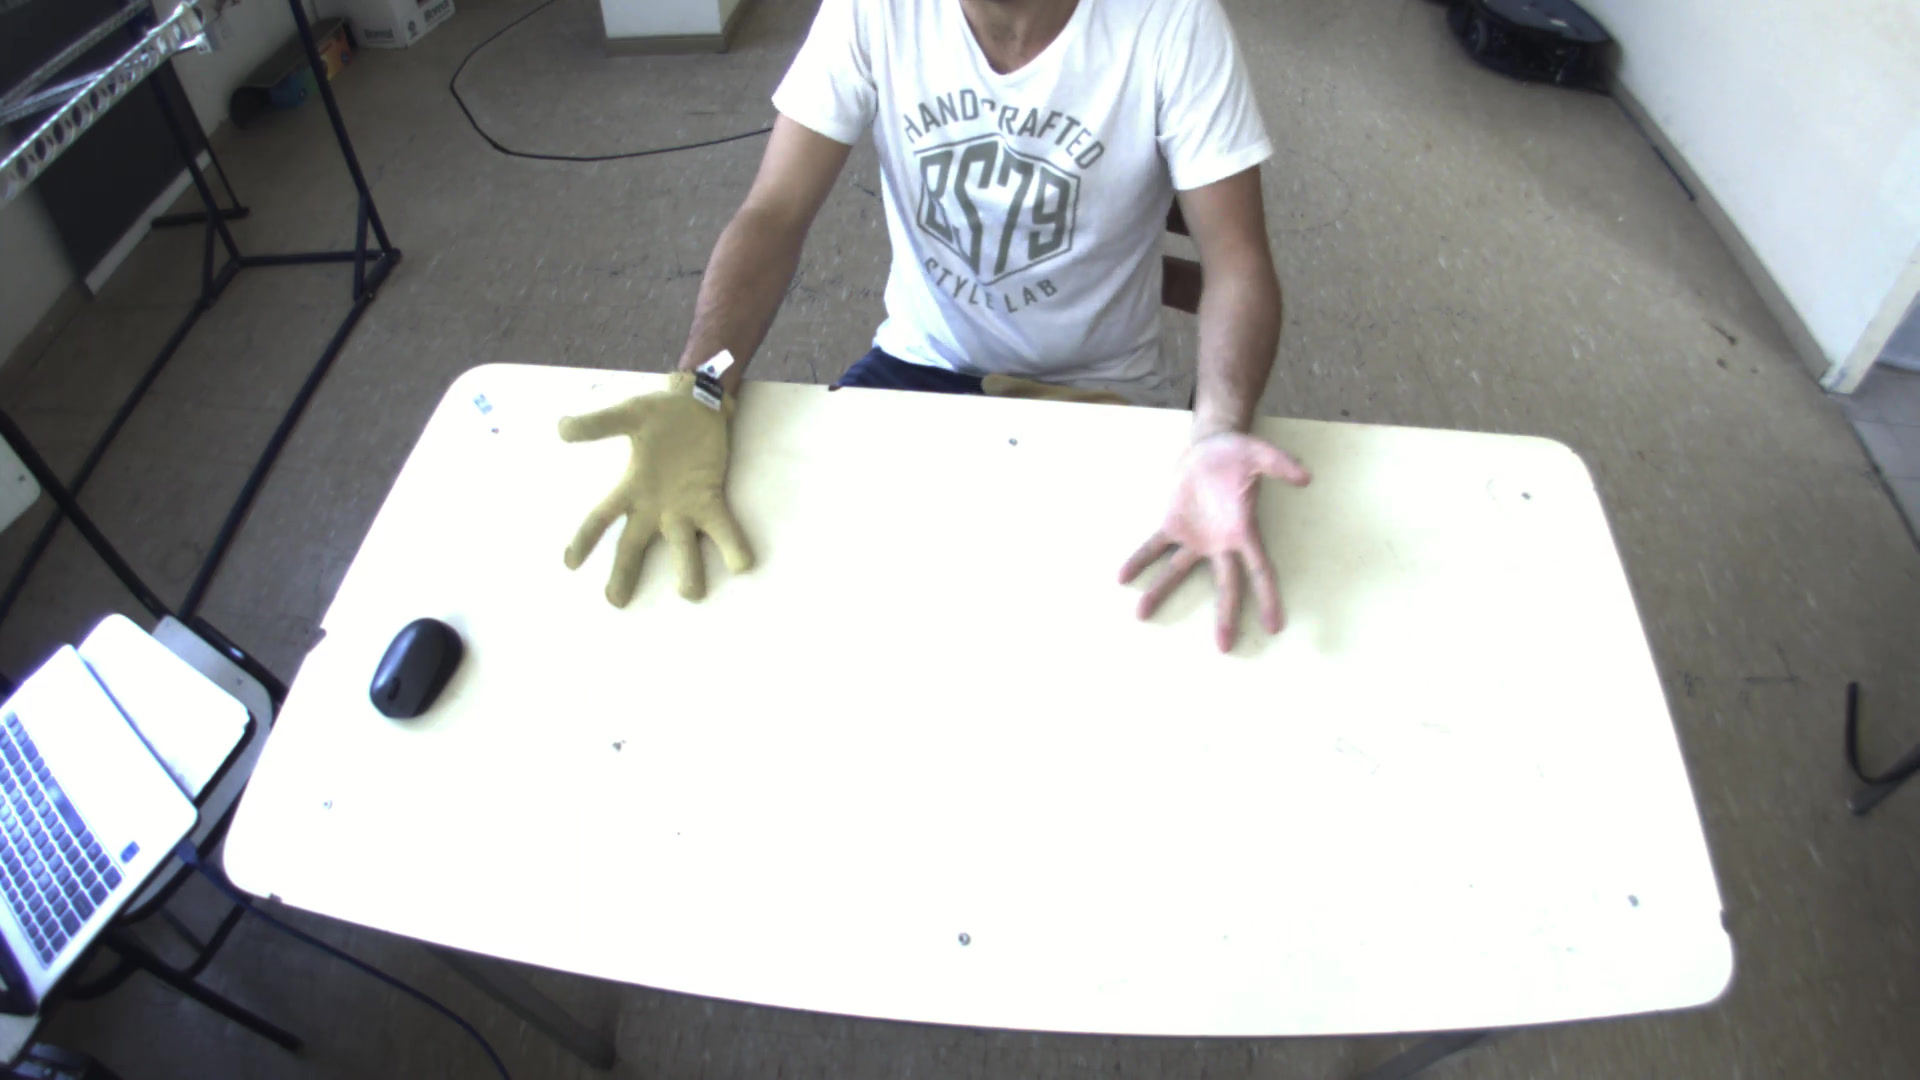hand: (541, 353, 766, 618), (1106, 411, 1333, 665)
